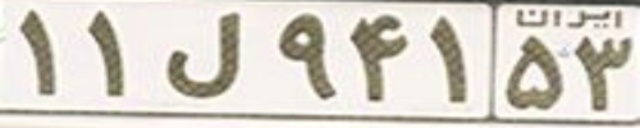1: (83, 10, 130, 96), (427, 15, 471, 102), (18, 11, 56, 94)
3: (571, 35, 633, 111)
4: (348, 14, 410, 101)
5: (505, 33, 565, 110)
9: (277, 13, 334, 98)
lam: (168, 13, 239, 96)
